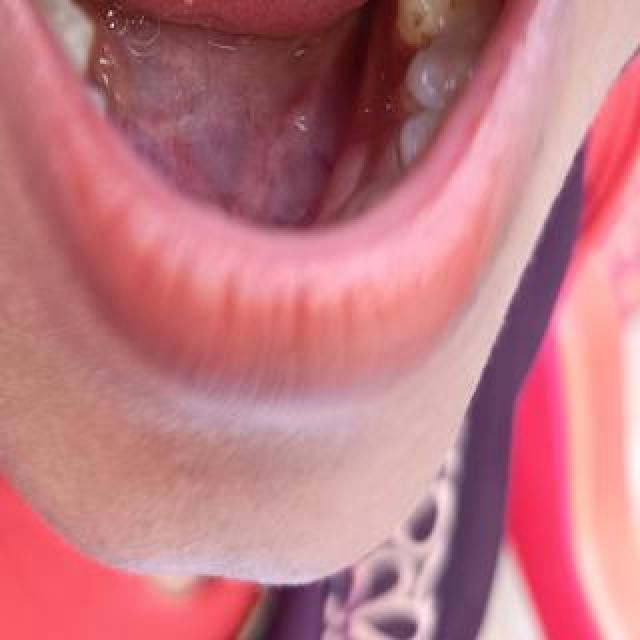stains: (400, 0, 446, 50), (385, 137, 425, 179), (396, 67, 428, 111)
